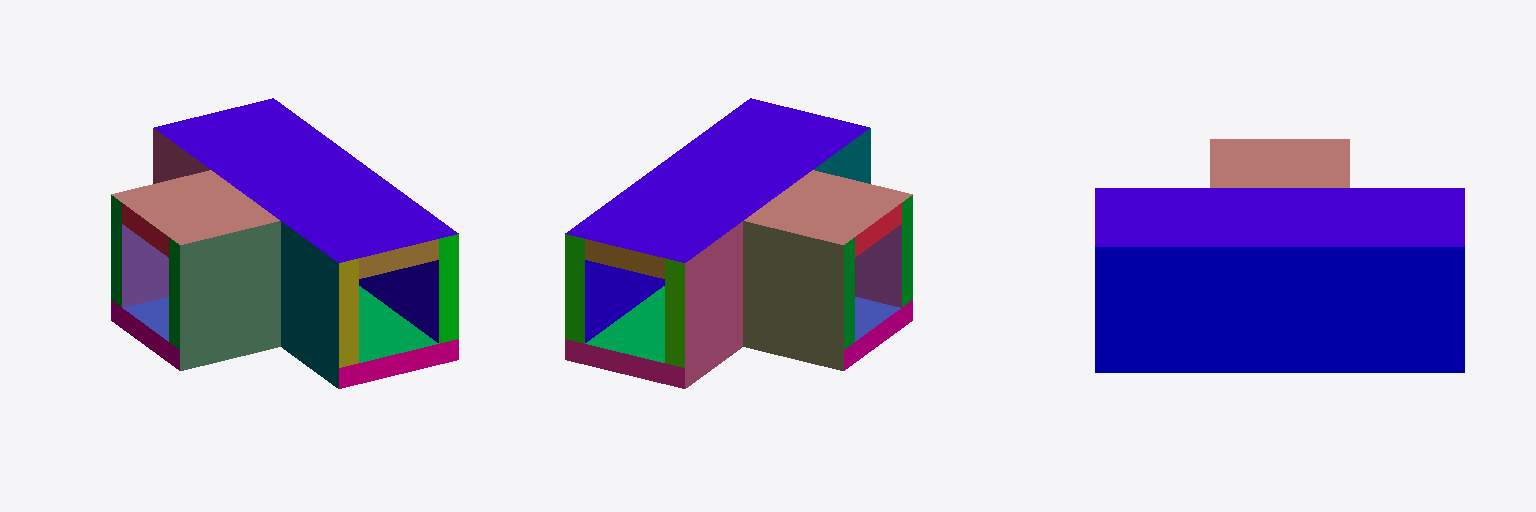
3 views of the same model, side by side, from view 1: azimuth 30°, elevation 25°; view 2: azimuth 150°, elevation 25°; view 3: azimuth 270°, elevation 25° (orthographic).
Parts seen in each view (by area): view 1: object; view 2: object; view 3: object.
Boxes of the visible parts, x1,y1,x2,y2 form: object: [111, 98, 458, 388]; object: [565, 98, 912, 388]; object: [1095, 139, 1464, 372].
Size of the model in its own units: 0.6875 by 0.375 by 1.
1 materials, 1 textured.